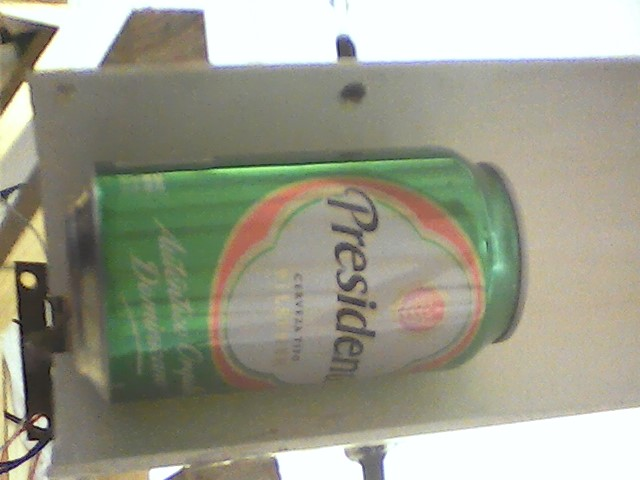lata: (61, 145, 538, 410)
